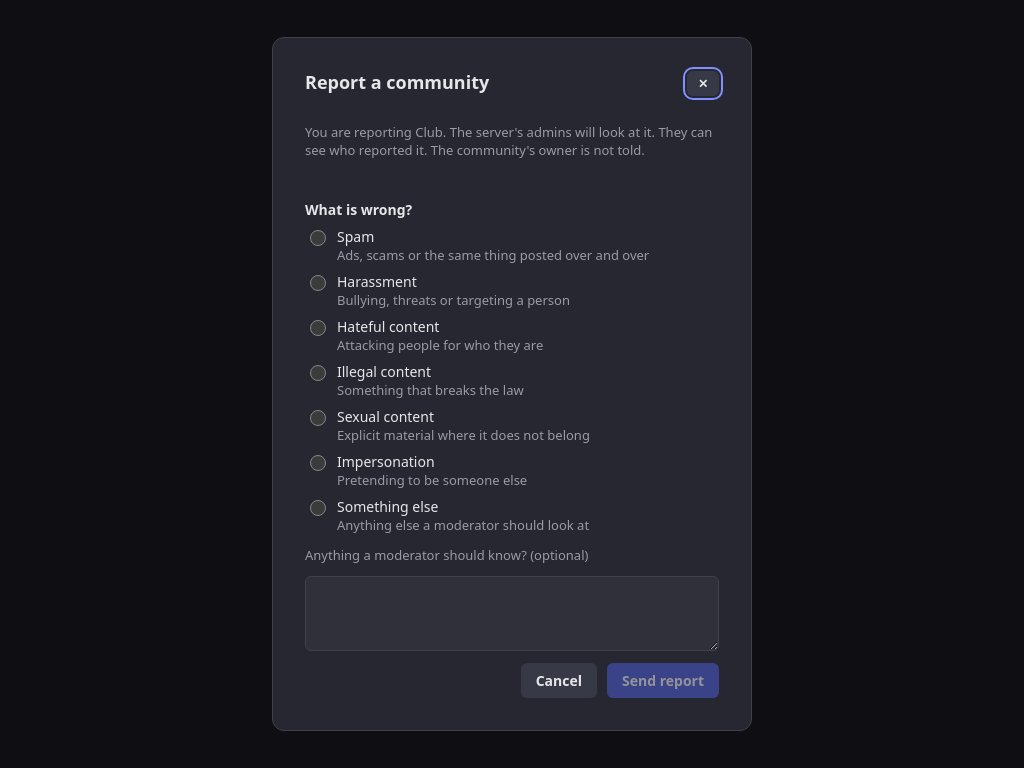
Scenario: reporting › sends no details when none were written
Click the radio button labelled "Illegal content Something that breaks the law": click(318, 373) [310,365,326,381]
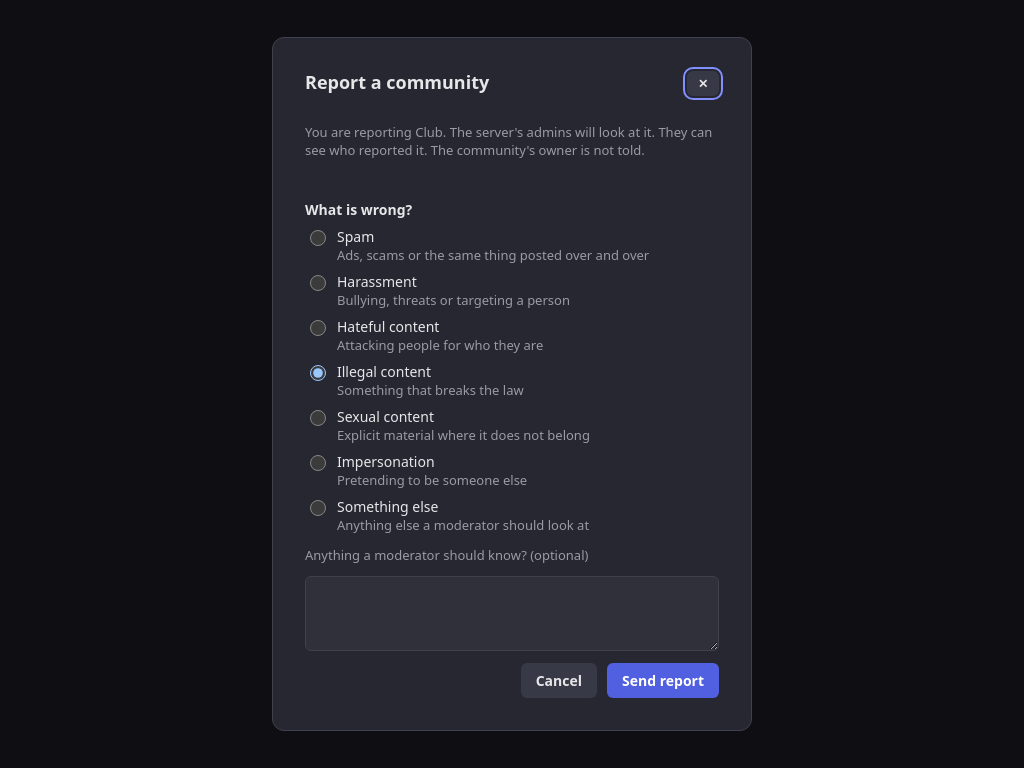
Click the button "Send report": click(663, 681) [607,663,719,698]
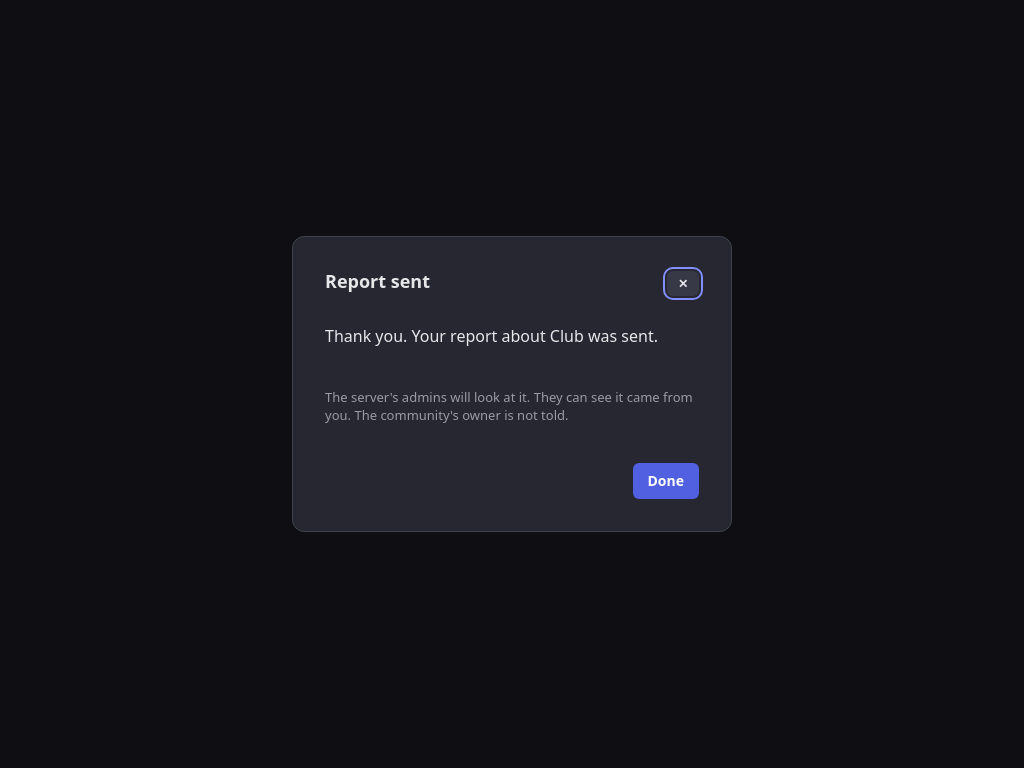
Expected: the dialog "Report sent" is shown, [292,236,732,532]
